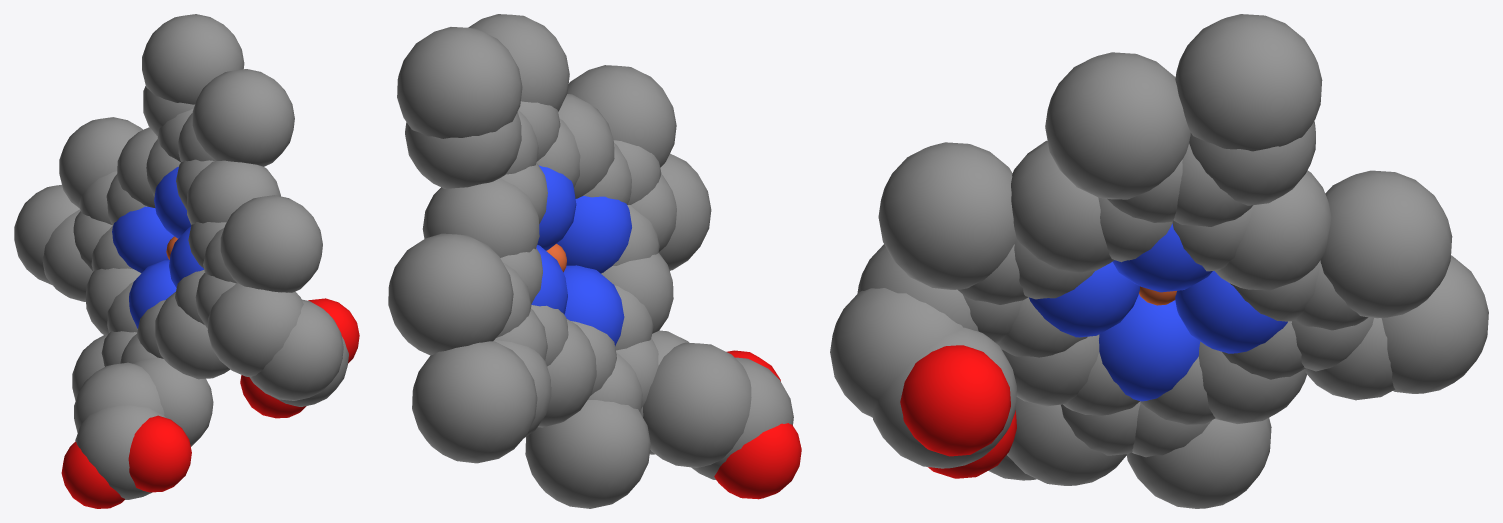
Rendered from heme_104m.dae.
The picture shows the model from 3 angles, left to right: view 1: azimuth 30°, elevation 25°; view 2: azimuth 150°, elevation 25°; view 3: azimuth 270°, elevation 25°; orthographic projection. The views are drawn at different scales.
Visible parts, largest first — view 1: subnode_10, subnode_21, subnode_23, subnode_11, subnode_12, subnode_40, subnode_29, subnode_2, subnode_42, subnode_1, subnode_38, subnode_39 (+30 smaller); view 2: subnode_31, subnode_29, subnode_23, subnode_39, subnode_37, subnode_3, subnode_10, subnode_22, subnode_21, subnode_41, subnode_5, subnode_11 (+25 smaller); view 3: subnode_21, subnode_10, subnode_23, subnode_29, subnode_15, subnode_12, subnode_31, subnode_2, subnode_37, subnode_3, subnode_32, subnode_38 (+26 smaller).
Boxes of the visible parts, x1,y1,x2,y2 form: subnode_10: (220,195,322,292); subnode_21: (192,69,294,166); subnode_23: (142,14,244,104); subnode_11: (207,283,303,377); subnode_12: (249,299,343,400); subnode_40: (75,405,165,499); subnode_29: (59,117,142,208); subnode_2: (187,160,280,224); subnode_42: (128,415,191,492); subnode_1: (155,292,229,379); subnode_38: (133,357,213,446); subnode_39: (74,362,164,432); subnode_31: (412,341,537,463); subnode_29: (388,233,513,355); subnode_23: (397,27,522,138); subnode_39: (643,342,751,467); subnode_37: (525,400,650,508); subnode_3: (422,178,539,257); subnode_10: (567,65,676,167); subnode_22: (405,112,521,188); subnode_21: (468,14,569,111); subnode_41: (714,423,801,499); subnode_5: (557,196,631,273); subnode_11: (659,153,711,270); subnode_21: (1045,52,1190,199); subnode_10: (878,142,1016,289); subnode_23: (1175,14,1322,151); subnode_29: (1320,170,1452,318); subnode_15: (900,345,1010,456); subnode_12: (830,288,963,417); subnode_31: (1381,255,1488,393); subnode_2: (1011,140,1114,272); subnode_37: (1126,418,1271,508); subnode_3: (1215,170,1331,290); subnode_32: (1099,294,1200,401); subnode_38: (1007,397,1126,485).
Size of the model in its own units: 10.95 by 15.74 by 16.63.
